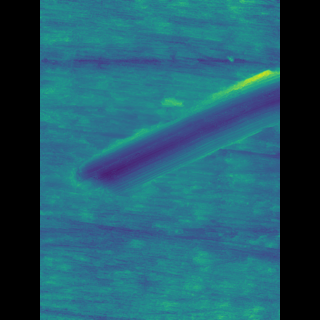Loch: (92, 62, 249, 200)
